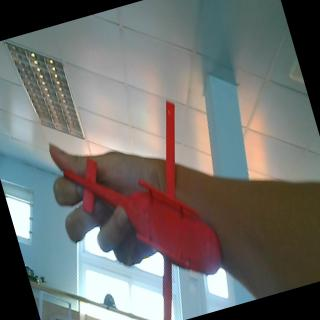Helicopter: (49, 91, 236, 320)
